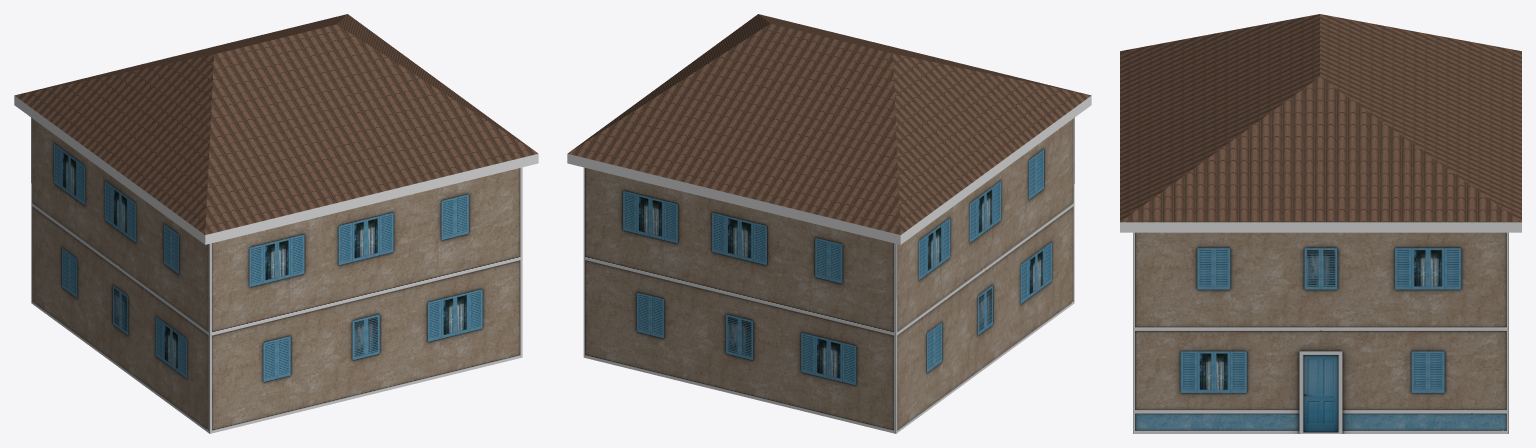
The model's file is House.FBX.
3 renders of one model, left to right at view 1: azimuth 30°, elevation 25°; view 2: azimuth 150°, elevation 25°; view 3: azimuth 270°, elevation 25°, orthographic. The views are drawn at different scales.
Visible parts, largest first — view 1: TriangleBlock; view 2: TriangleBlock; view 3: TriangleBlock.
Part boxes in pixels (left/top/right/bottom): TriangleBlock: left=14, top=14, right=538, bottom=433; TriangleBlock: left=567, top=14, right=1091, bottom=433; TriangleBlock: left=1120, top=14, right=1521, bottom=433.
Bounding box in the file's own units: 10.76 × 9 × 10.67.
